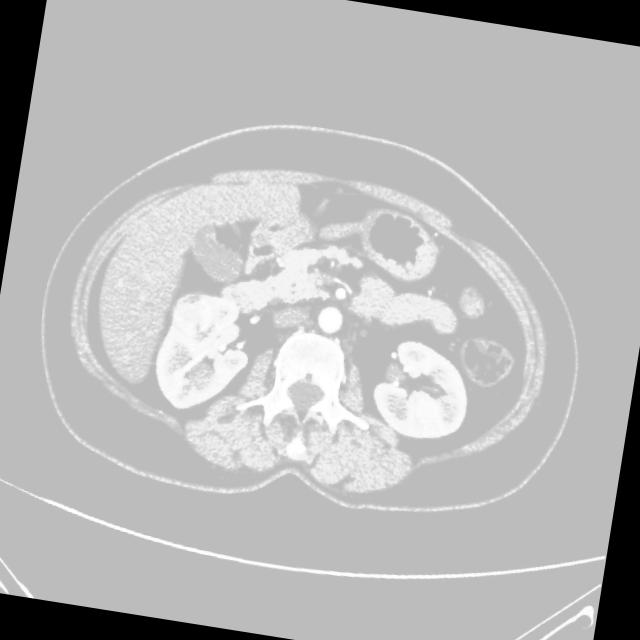TUMOR: (145, 187, 572, 438)
